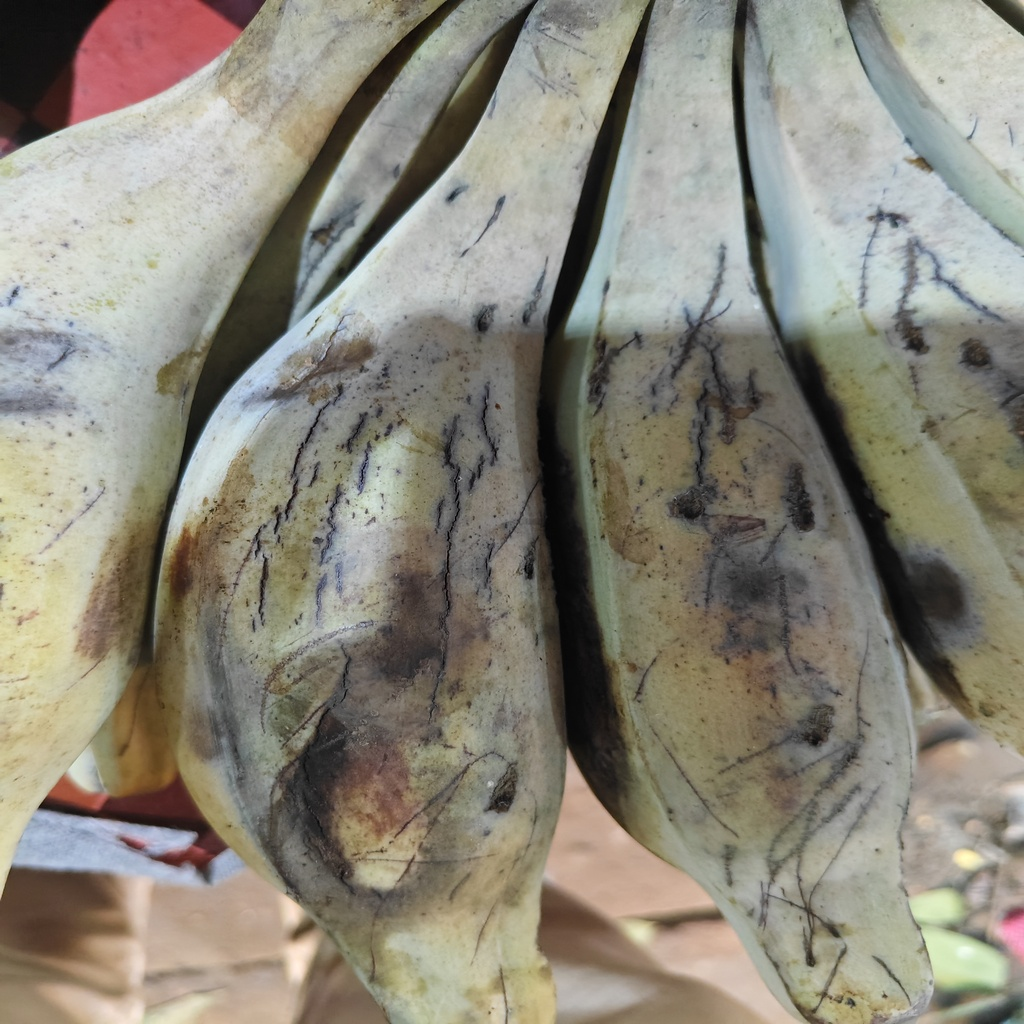unhealthy: (154, 217, 572, 1024), (553, 244, 937, 1024)
